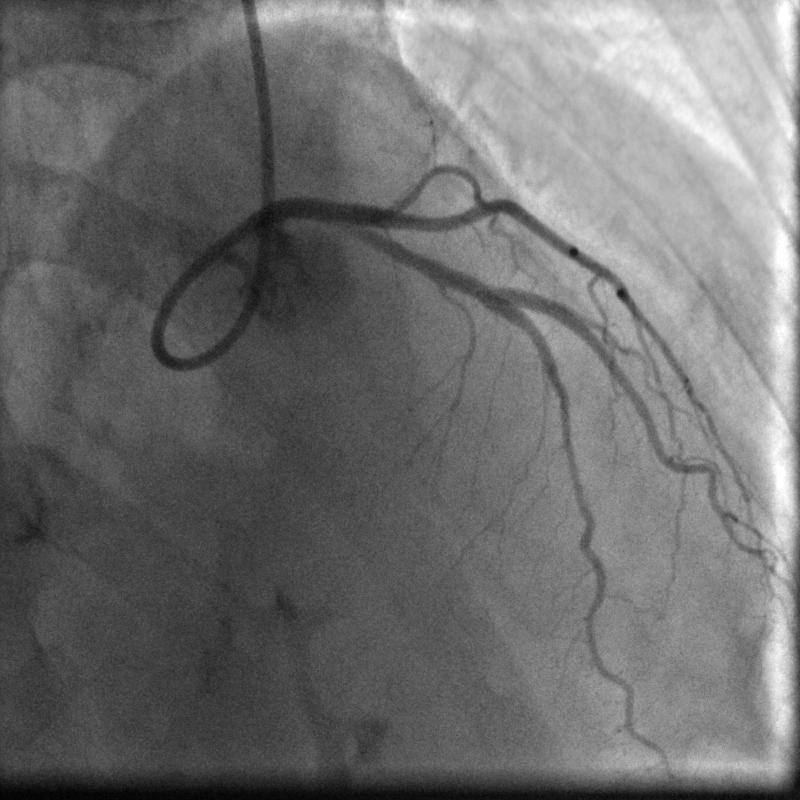Stenosis: (466, 271, 494, 314)
